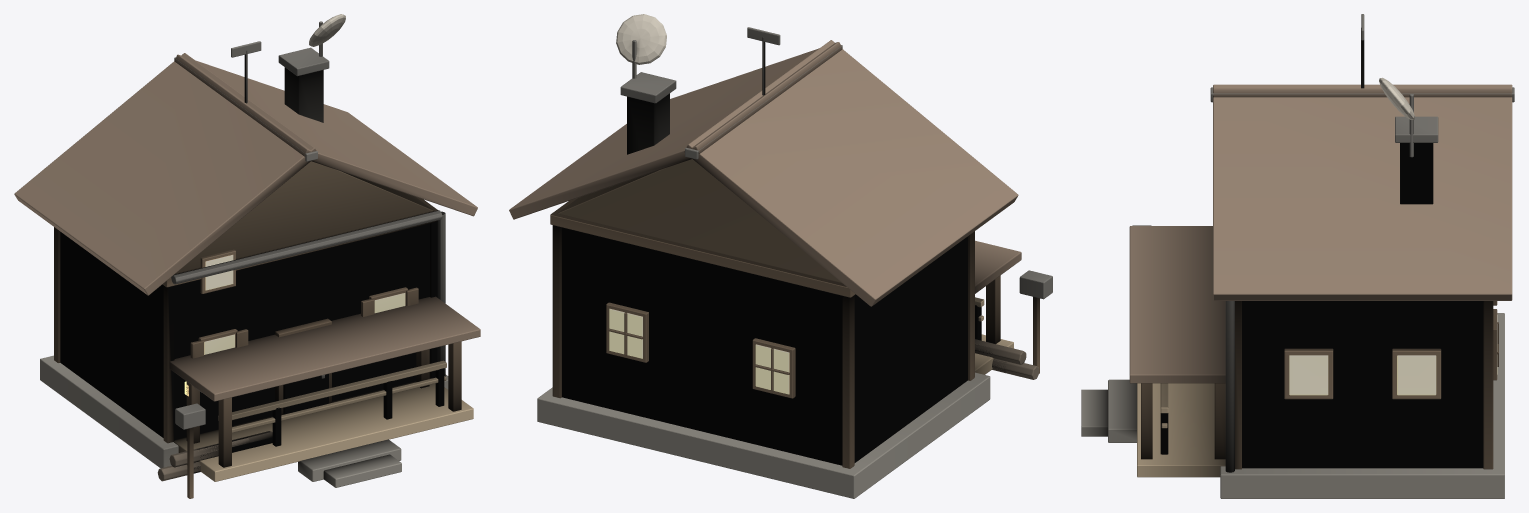
The model's file is farmhouse.glb.
The picture shows the model from 3 angles, left to right: view 1: azimuth 30°, elevation 25°; view 2: azimuth 150°, elevation 25°; view 3: azimuth 270°, elevation 25°; orthographic projection. The views are drawn at different scales.
Parts seen in each view (by area): view 1: foundation; view 2: foundation; view 3: foundation.
Boxes of the visible parts, left/top/right/bottom form: foundation: left=14, top=14, right=480, bottom=498; foundation: left=509, top=14, right=1052, bottom=498; foundation: left=1081, top=14, right=1514, bottom=498.
Size of the model in its own units: 4.51 by 4.46 by 4.42.
